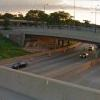Bridge: (10, 10, 95, 52)
